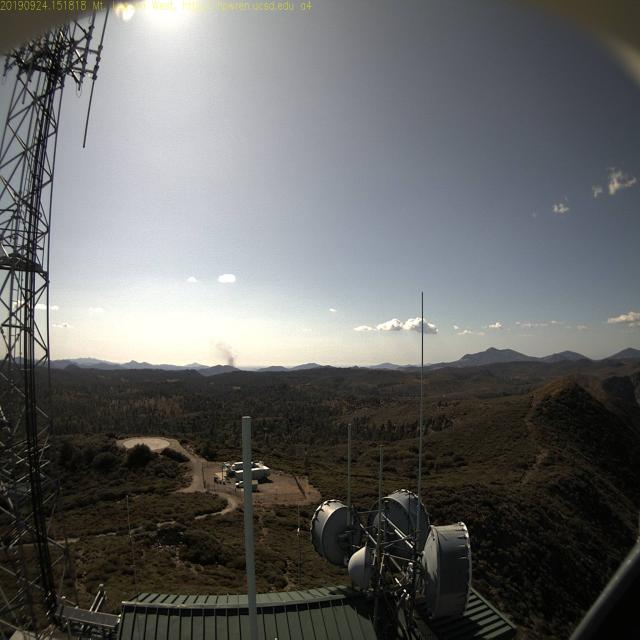smoke: (218, 345, 240, 372)
